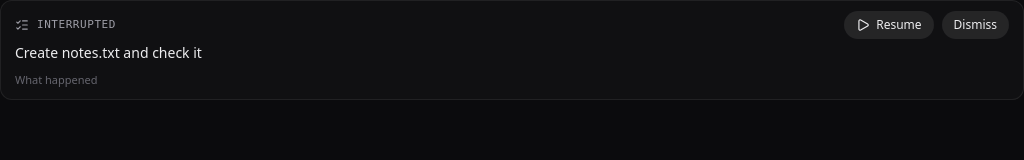
Test: task card › shows what an interrupted task did, from its activity log
What coordinates should you click on to do the following:
click the button "What happened"
I would click on:
 (56, 80)
Its box is top-left (15, 72), bottom-right (98, 88).
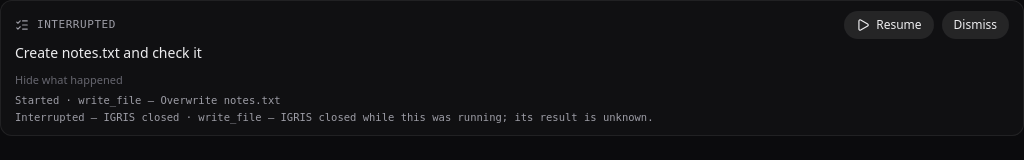
Expected: the list item "Started · write_file — Overwrite notes.txt" is shown, top-left (15, 94), bottom-right (280, 106)
Expected: the list item "Interrupted — IGRIS closed · write_file — IGRIS closed while this was running" is shown, top-left (15, 111), bottom-right (654, 123)
